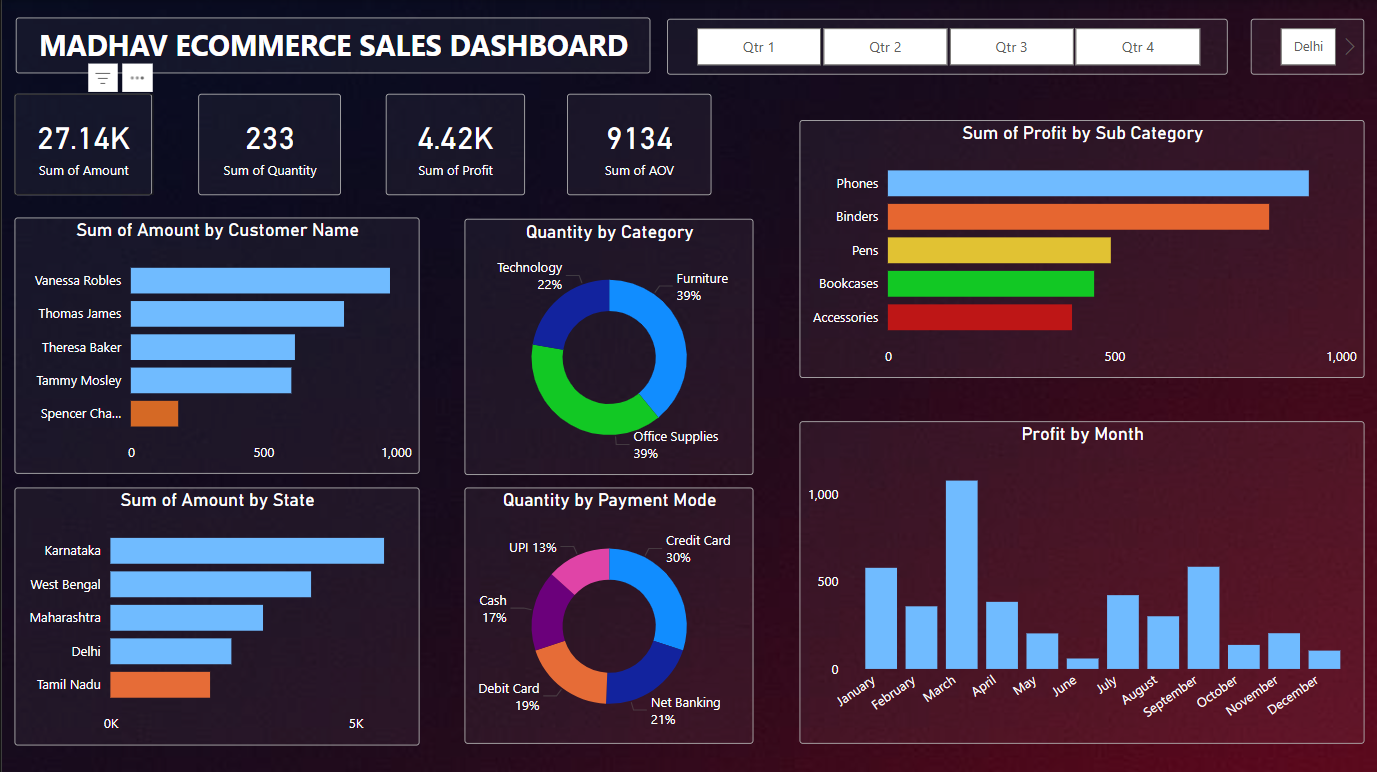

The page's visual inventory and layout, read from the dashboard file:
{"tool":"powerbi","page":{"name":"Page 1","canvas":[1280,720],"ordinal":0},"visuals":[{"type":"textbox","box":[12.3,16.5,590.1,52.1],"z":0},{"type":"columnChart","title":"Profit by Month","fields":{"Category":["store_orders_sample.Order Date.Variation.Date Hierarchy.Month"],"Y":["store_orders_with_financials.Profit"]},"box":[742,392.2,525.4,300.2],"z":1000},{"type":"barChart","fields":{"Category":["store_orders_with_financials.Sub Category"],"Y":["store_orders_with_financials.Profit"]},"box":[742,111.4,525.4,239.7],"z":2000},{"type":"donutChart","title":"Quantity by Category","fields":{"Category":["store_orders_with_financials.Category"],"Y":["store_orders_with_financials.Quantity"]},"box":[429.7,203.4,268.7,238.5],"z":3000},{"type":"donutChart","title":"Quantity by Payment Mode","fields":{"Y":["store_orders_with_financials.Quantity"],"Category":["store_orders_with_financials.Payment Mode"]},"box":[429.7,453.9,268.7,238.5],"z":4000},{"type":"card","fields":{"Values":["store_orders_with_financials.Amount"]},"box":[12.1,87.2,128.3,94.4],"z":5000},{"type":"card","fields":{"Values":["store_orders_with_financials.Quantity"]},"box":[182.8,87.2,133.2,94.4],"z":6000},{"type":"card","fields":{"Values":["store_orders_with_financials.Profit"]},"box":[357.1,87.2,129.5,94.4],"z":7000},{"type":"card","fields":{"Values":["store_orders_with_financials.Average"]},"box":[525.4,87.2,134.4,94.4],"z":8000},{"type":"barChart","fields":{"Category":["store_orders_sample.State"],"Y":["store_orders_with_financials.Amount"]},"box":[12.1,453.9,376.5,239.7],"z":8002},{"type":"barChart","fields":{"Y":["store_orders_with_financials.Amount"],"Category":["store_orders_sample.Customer Name"]},"box":[12.1,202.2,376.5,238.5],"z":8003},{"type":"slicer","fields":{"Values":["store_orders_sample.Order Date.Variation.Date Hierarchy.Quarter"]},"box":[618.6,16.9,521.7,52.1],"z":8004},{"type":"slicer","fields":{"Values":["store_orders_sample.State"]},"box":[1162.1,16.9,105.3,52.1],"z":8005}]}

Visuals, with their boxes in screenshot pixels (x1, y1, x2, y2), scaled from the page's 1280x720 canvas onto the 1377x772 screenshot:
textbox: (13,18,648,74)
"Profit by Month" columnChart: (798,421,1363,742)
barChart - store_orders_with_financials.Sub Category x store_orders_with_financials.Profit: (798,119,1363,376)
"Quantity by Category" donutChart: (462,218,751,474)
"Quantity by Payment Mode" donutChart: (462,487,751,742)
card - store_orders_with_financials.Amount: (13,93,151,195)
card - store_orders_with_financials.Quantity: (197,93,340,195)
card - store_orders_with_financials.Profit: (384,93,523,195)
card - store_orders_with_financials.Average: (565,93,710,195)
barChart - store_orders_sample.State x store_orders_with_financials.Amount: (13,487,418,744)
barChart - store_orders_with_financials.Amount x store_orders_sample.Customer Name: (13,217,418,473)
slicer - store_orders_sample.Order Date.Variation.Date Hierarchy.Quarter: (665,18,1227,74)
slicer - store_orders_sample.State: (1250,18,1363,74)
